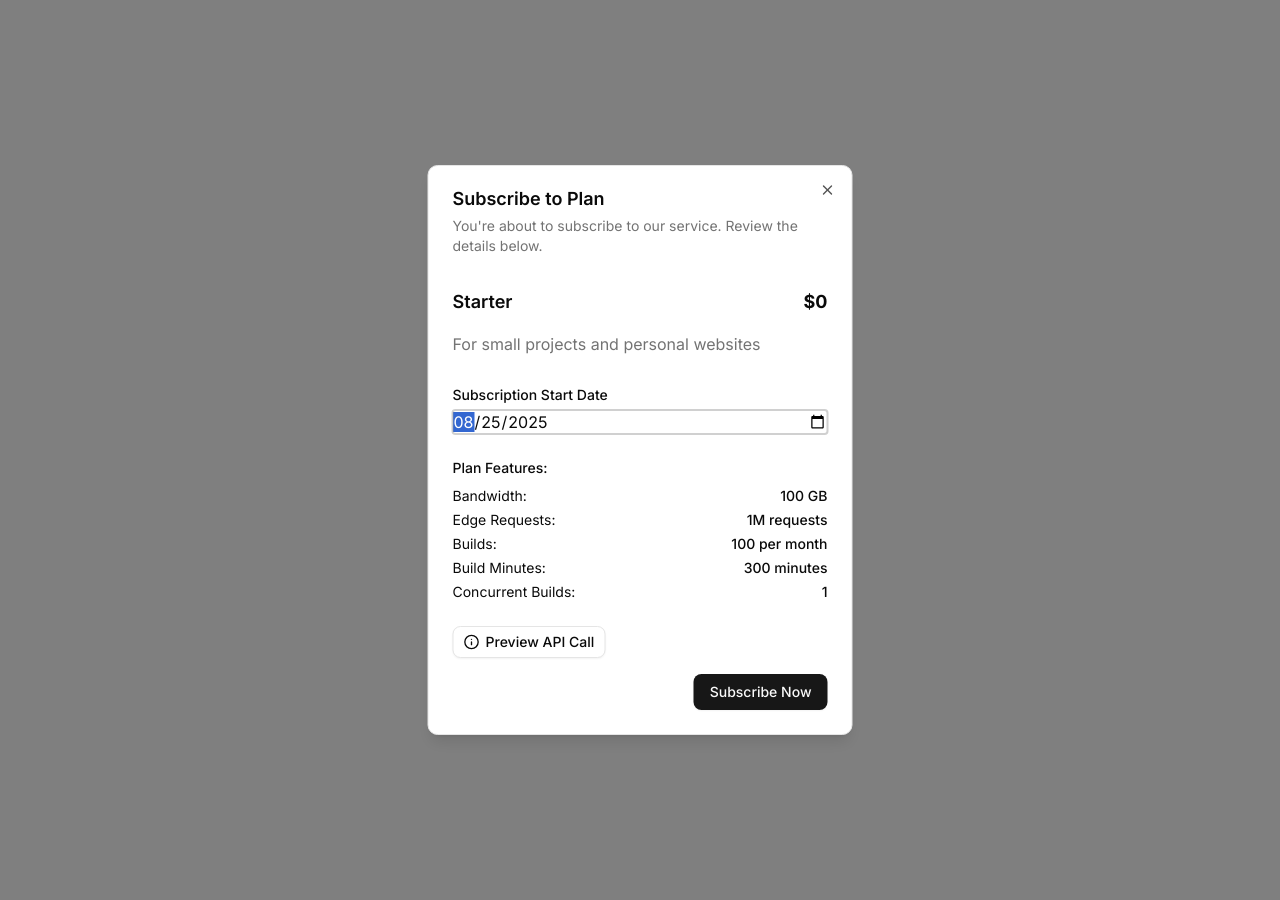
Test: PlanSelectionDialog › should show loading state during subscription creation
# Click subscribe button
What coordinates should you click on to do the following:
click the button "Subscribe Now"
I would click on:
 (761, 692)
Its box is [694,674,828,710].
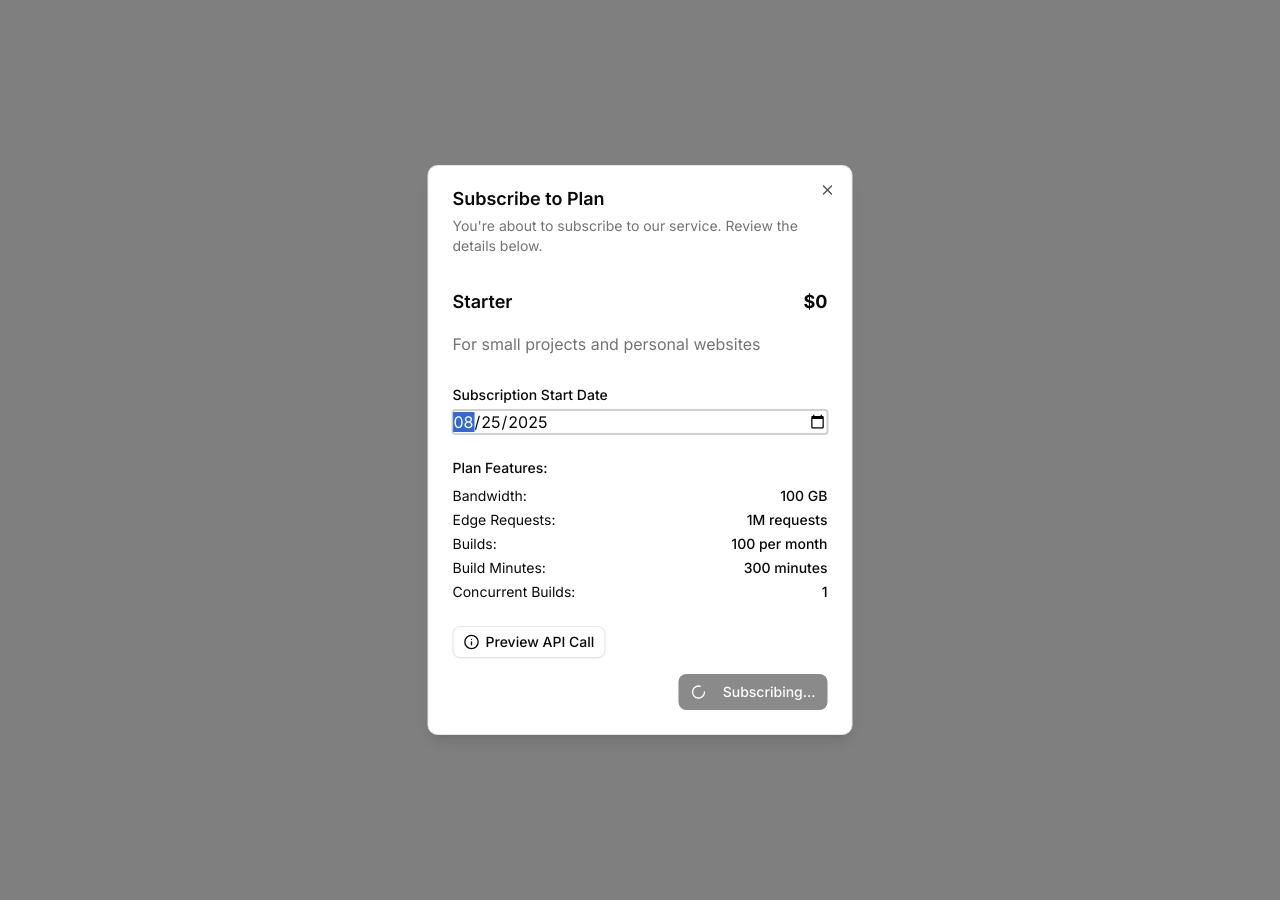
Expected: the button "Subscribing..." is disabled, [679,674,828,710]
